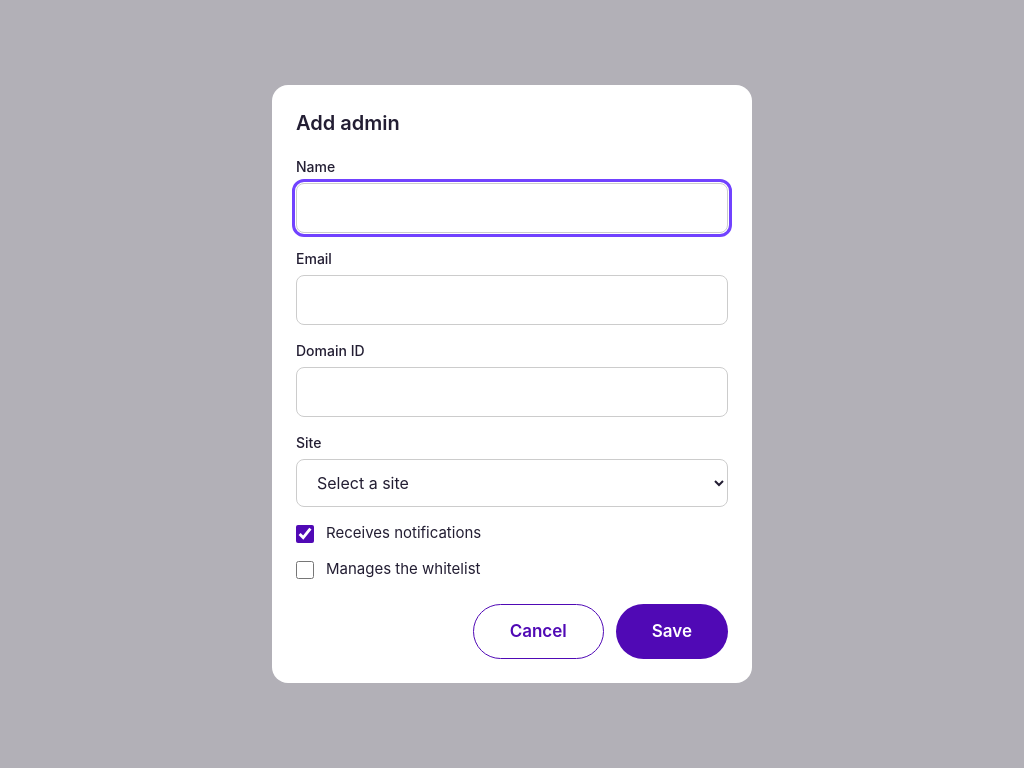
AdminForm › attaches a duplicate-email error to the Email field
The image size is (1024, 768).
Type "Juan Cruz" into the field labelled "Name". click: (512, 208)
box: 296,183 -> 728,233
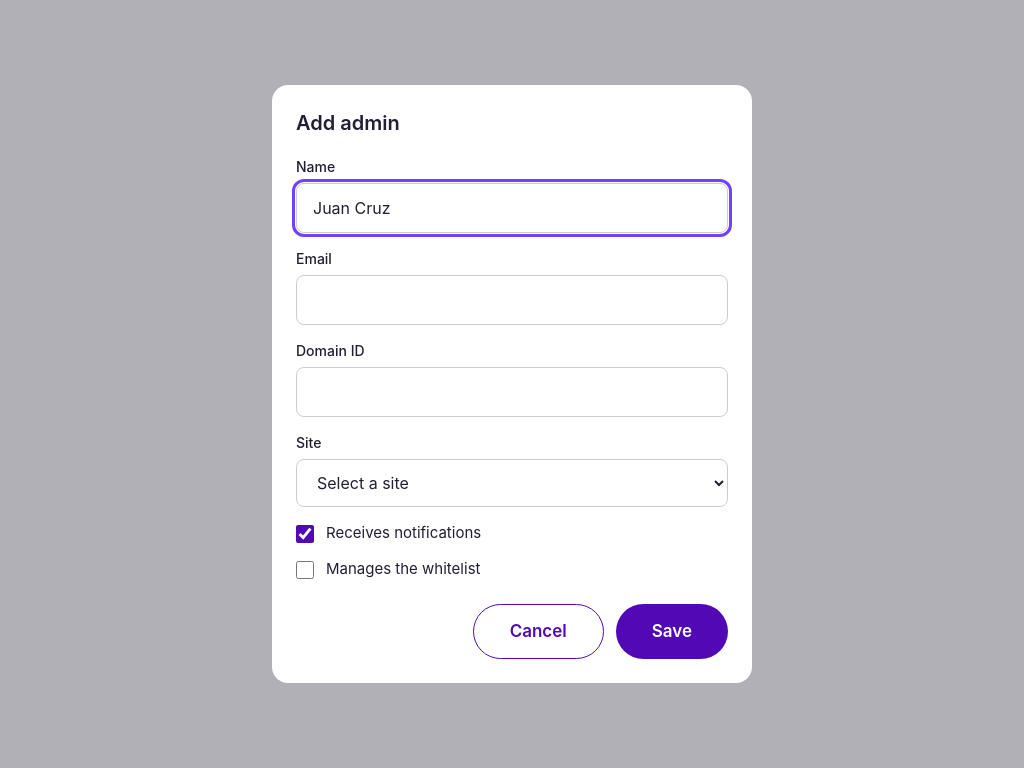
Type "taken@carelon.com" into the field labelled "Email". click: (512, 300)
box: 296,275 -> 728,325
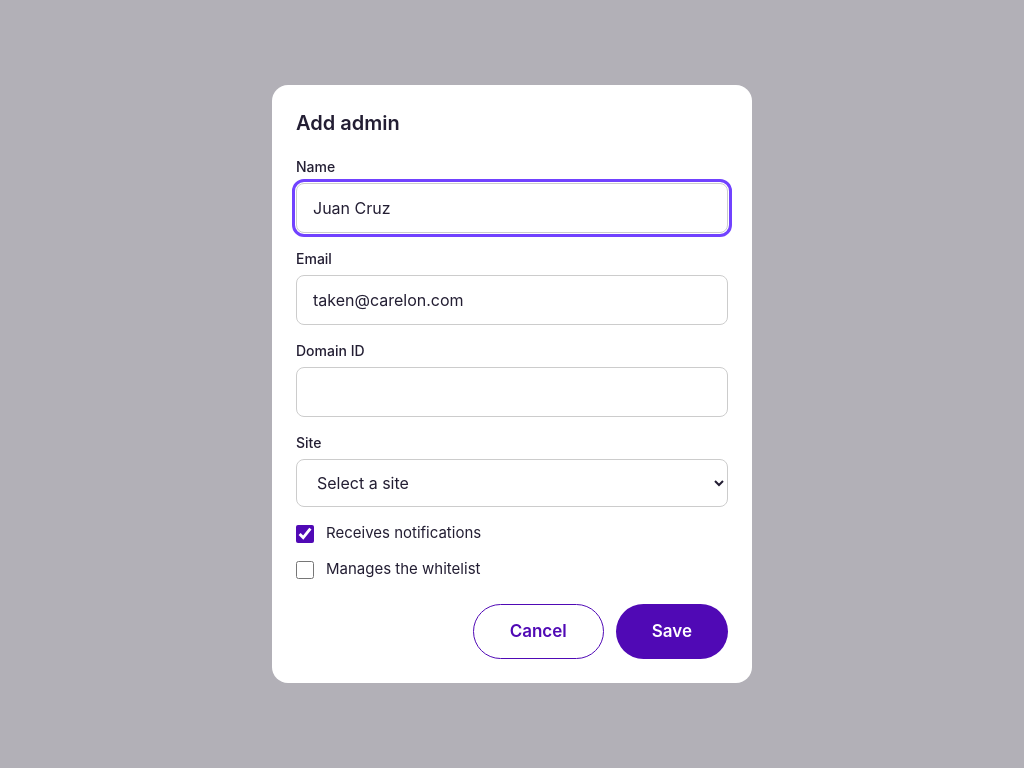
Select "Manila" in the dropdown labelled "Site". click: (512, 483)
box: 296,459 -> 728,507
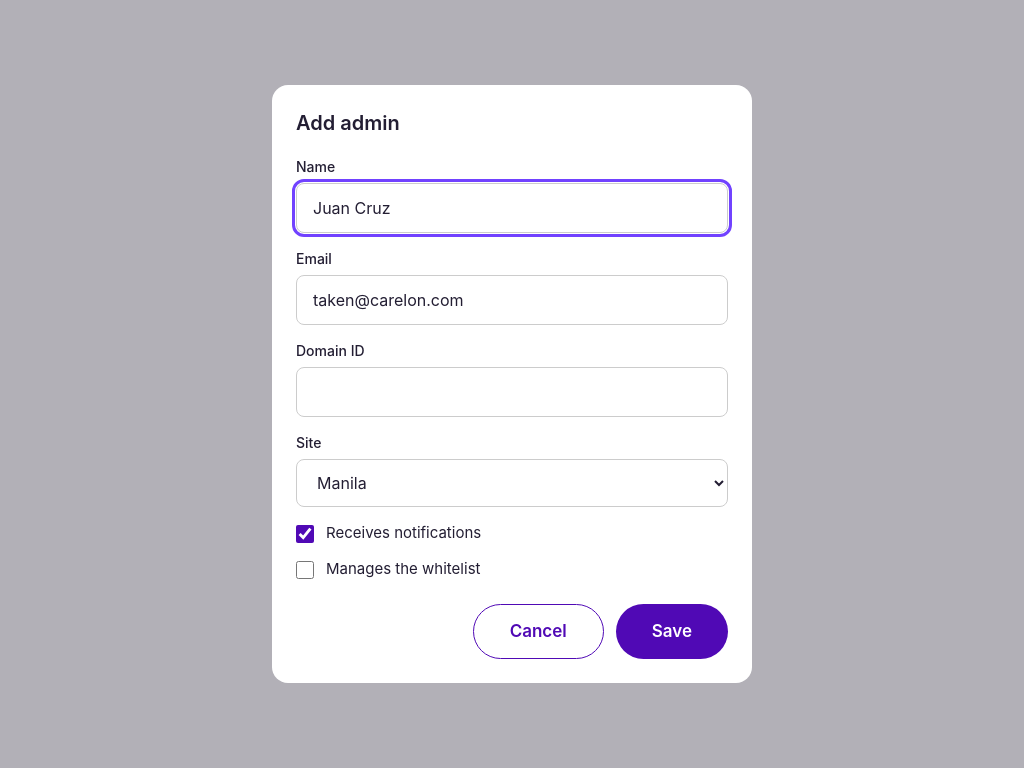
Click the button "Save". click: (672, 632)
box: 616,604 -> 728,659
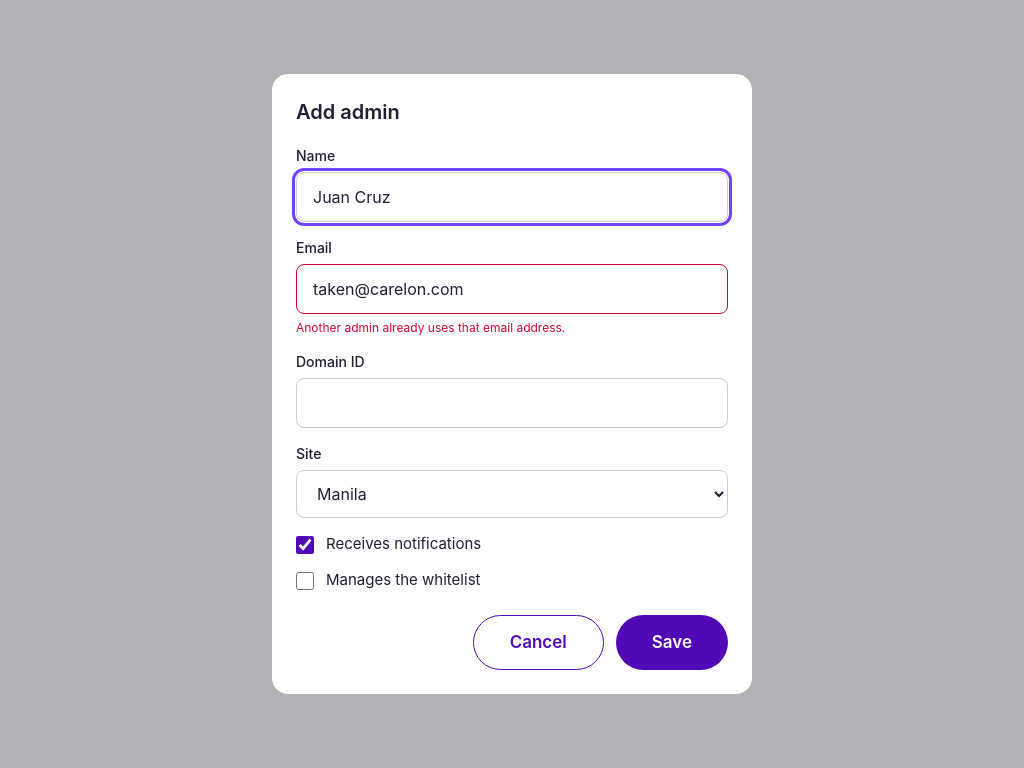
Check: the text "Another admin already uses that email address." is shown, box 296,320 -> 565,335
